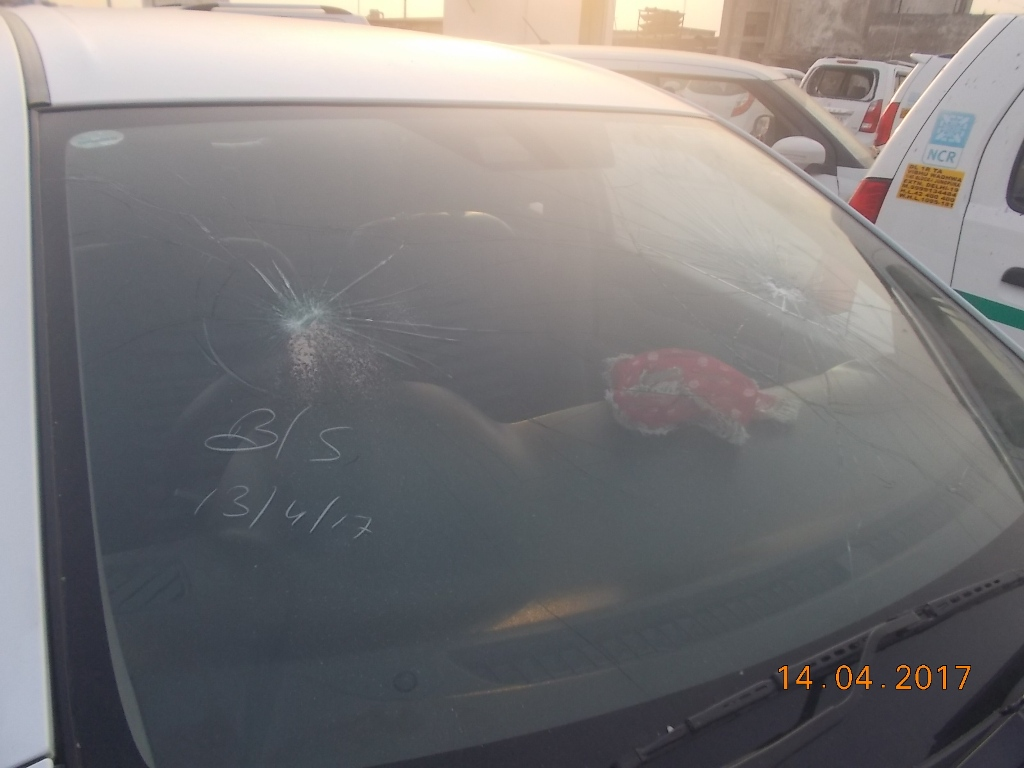Shatter: (240, 256, 447, 448)
